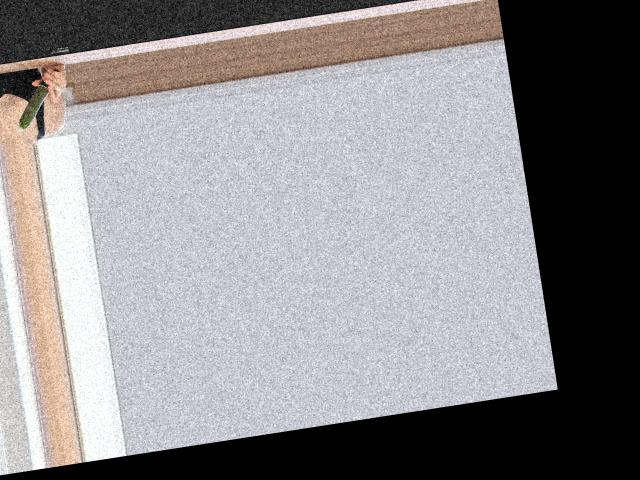cucumber: (11, 67, 67, 131)
